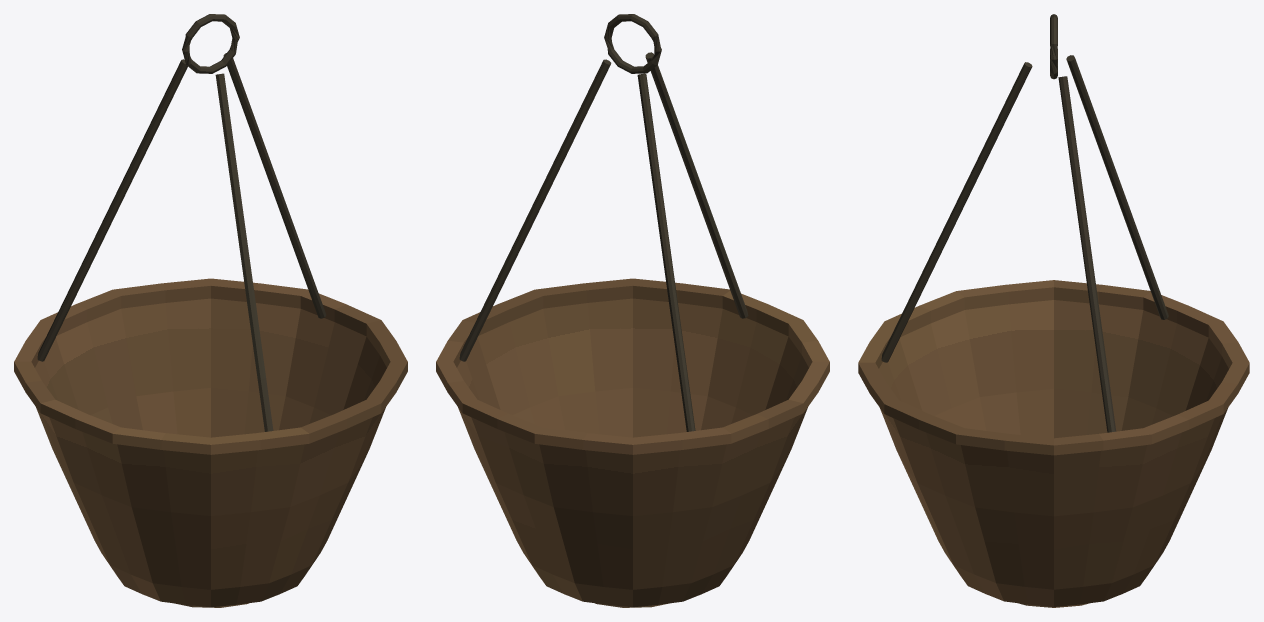
Rendered from vessel-basket.glb.
The picture shows the model from 3 angles, left to right: view 1: azimuth 30°, elevation 25°; view 2: azimuth 150°, elevation 25°; view 3: azimuth 270°, elevation 25°; orthographic projection.
Parts seen in each view (by area): view 1: vessel-basket/complete-inner-outer-shell-with-drainage, vessel-basket/three-way-hanging-cord-3, vessel-basket/three-way-hanging-cord-2, vessel-basket/three-way-hanging-cord-1, vessel-basket/open-hanging-eye; view 2: vessel-basket/complete-inner-outer-shell-with-drainage, vessel-basket/three-way-hanging-cord-2, vessel-basket/three-way-hanging-cord-1, vessel-basket/three-way-hanging-cord-3, vessel-basket/open-hanging-eye; view 3: vessel-basket/complete-inner-outer-shell-with-drainage, vessel-basket/three-way-hanging-cord-1, vessel-basket/three-way-hanging-cord-3, vessel-basket/three-way-hanging-cord-2.
Part boxes in pixels (x1=…): vessel-basket/complete-inner-outer-shell-with-drainage: x1=14, y1=278, x2=407, y2=607; vessel-basket/three-way-hanging-cord-3: x1=215, y1=73, x2=273, y2=431; vessel-basket/three-way-hanging-cord-2: x1=37, y1=59, x2=187, y2=361; vessel-basket/three-way-hanging-cord-1: x1=223, y1=53, x2=326, y2=318; vessel-basket/open-hanging-eye: x1=182, y1=14, x2=239, y2=73; vessel-basket/complete-inner-outer-shell-with-drainage: x1=436, y1=278, x2=829, y2=607; vessel-basket/three-way-hanging-cord-2: x1=637, y1=73, x2=695, y2=431; vessel-basket/three-way-hanging-cord-1: x1=459, y1=59, x2=611, y2=361; vessel-basket/three-way-hanging-cord-3: x1=645, y1=52, x2=748, y2=318; vessel-basket/open-hanging-eye: x1=604, y1=14, x2=661, y2=73; vessel-basket/complete-inner-outer-shell-with-drainage: x1=858, y1=280, x2=1249, y2=606; vessel-basket/three-way-hanging-cord-1: x1=1058, y1=76, x2=1116, y2=432; vessel-basket/three-way-hanging-cord-3: x1=881, y1=62, x2=1032, y2=362; vessel-basket/three-way-hanging-cord-2: x1=1066, y1=55, x2=1168, y2=319.
Bounding box in the file's own units: 0.393 × 0.621 × 0.393.
Materials: 2 (2 with a texture image).
